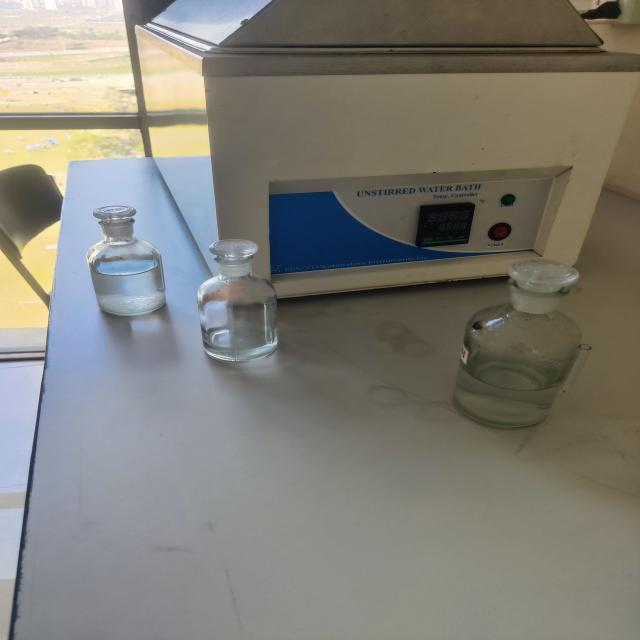Reagent_Bottle: (430, 242, 604, 450), (184, 216, 302, 378), (67, 191, 181, 331)
